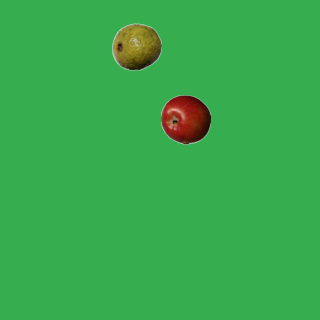Apple Braeburn: (160, 94, 210, 144)
Guava: (111, 21, 161, 71)
